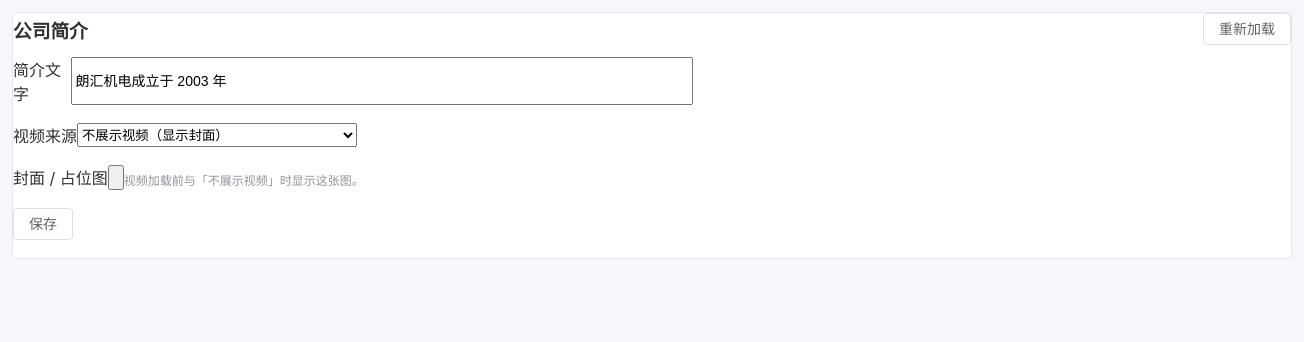
Test: content/CompanyProfile › 云存储档：显示视频上传与容量提示
Select "云存储上传" in the dropdown. click: [217, 135]
box: [77,123,357,147]
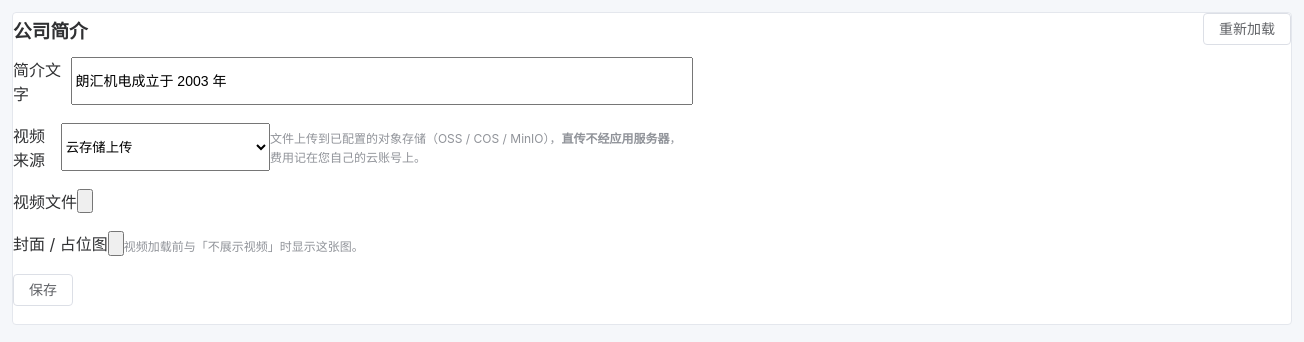
Result: the button with class "upload-field" next to "视频文件" is shown at [77,189,93,213]
